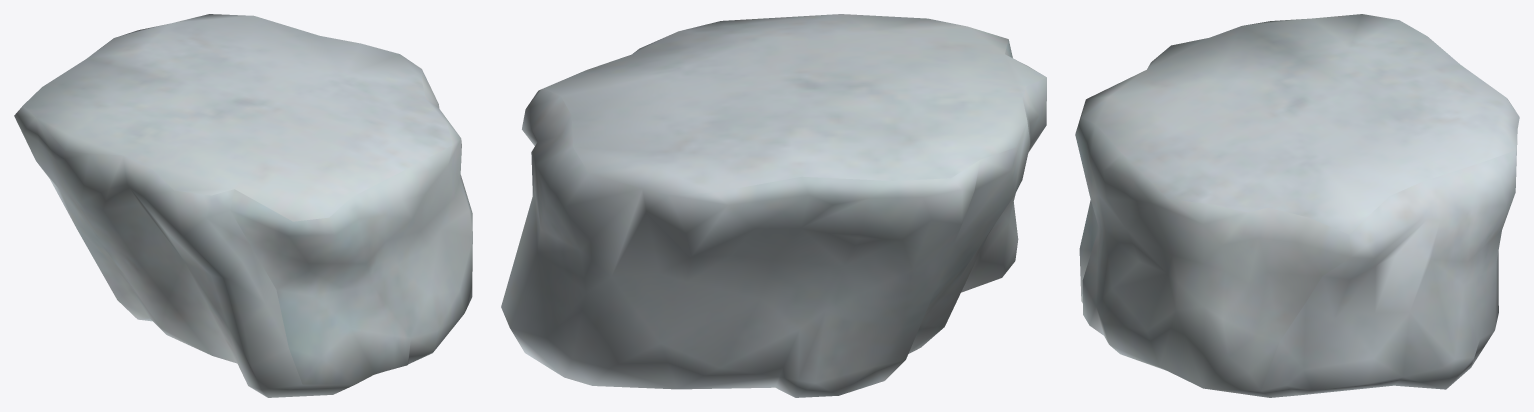
File: P_ShelfClassic6.obj
3 renders of one model, left to right at view 1: azimuth 30°, elevation 25°; view 2: azimuth 150°, elevation 25°; view 3: azimuth 270°, elevation 25°, orthographic. The views are drawn at different scales.
Bounding box in the file's own units: 15.54 × 8.45 × 15.6.
